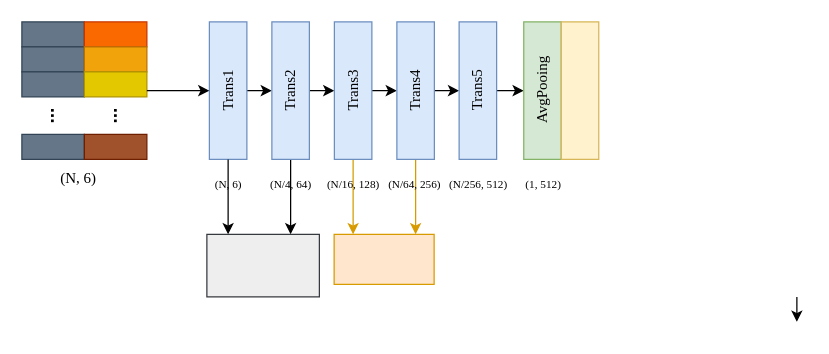
Image size: 829x354. Some labels were removed from this diagram. The shapes that lost their labels are listed below. From the top down, each one's box as (x1, y1, x2, y2) in pixels, then its label:
(560, 21, 599, 159): MLP(512,128,64,k)
(206, 233, 319, 297): ContentLoss Ch L1
(333, 233, 434, 284): StyleLoss Gram
